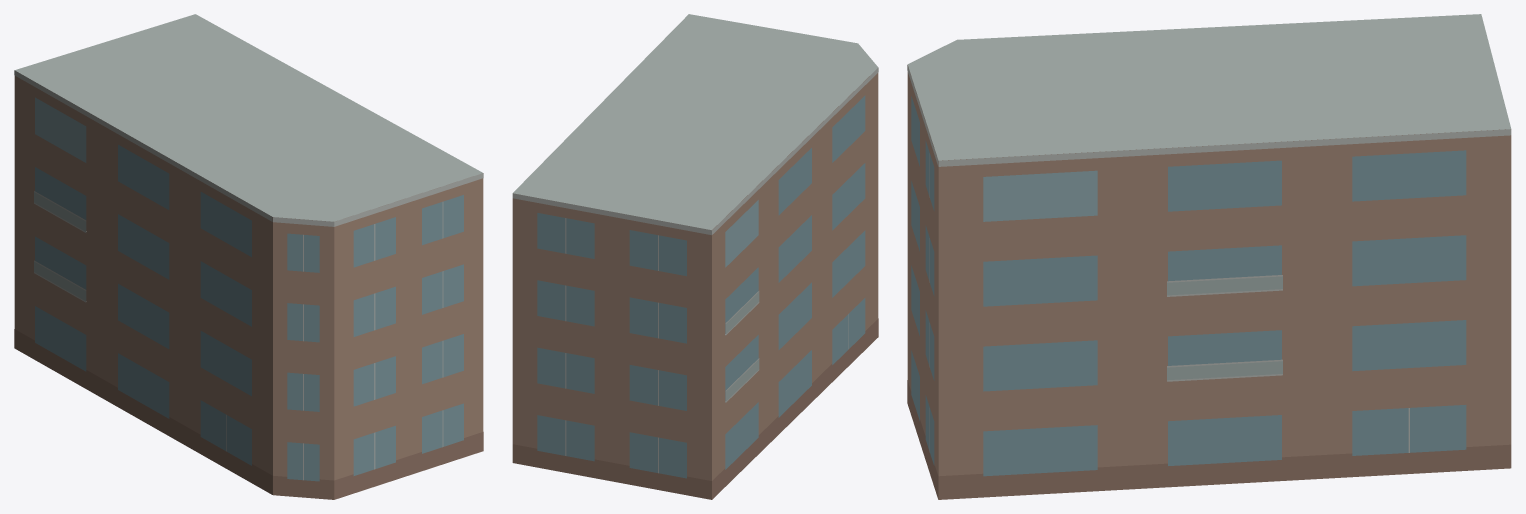
Rendered from survey-upis-32616872.glb.
The picture shows the model from 3 angles, left to right: view 1: azimuth 30°, elevation 25°; view 2: azimuth 150°, elevation 25°; view 3: azimuth 270°, elevation 25°; orthographic projection. The views are drawn at different scales.
Parts seen in each view (by area): view 1: survey-upis-32616872.tmp; view 2: survey-upis-32616872.tmp; view 3: survey-upis-32616872.tmp.
Boxes of the visible parts, x1,y1,x2,y2 form: survey-upis-32616872.tmp: [14, 14, 483, 499]; survey-upis-32616872.tmp: [512, 14, 878, 499]; survey-upis-32616872.tmp: [907, 14, 1511, 499].
Bounding box in the file's own units: 12.15 × 13.1 × 21.14.
